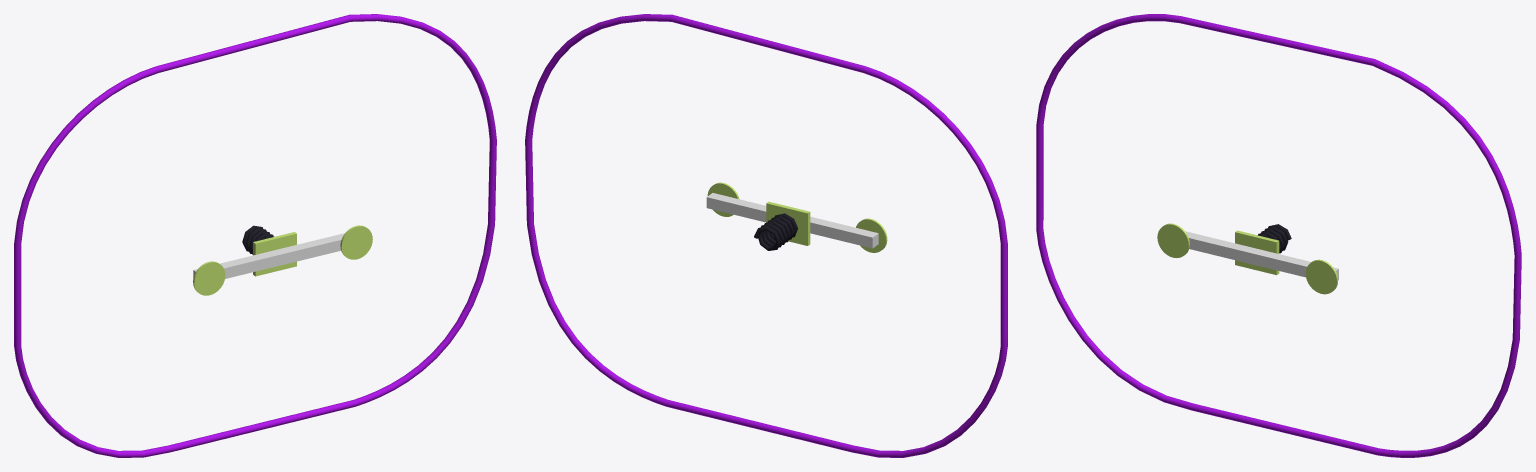
File: leber-msk-201.glb
3 views of the same model, side by side, from view 1: azimuth 30°, elevation 25°; view 2: azimuth 150°, elevation 25°; view 3: azimuth 330°, elevation 25° (orthographic).
Visible parts, largest first — view 1: _outline.006, Cube.034, Cylinder.025, Cylinder.026, Cube.033; view 2: _outline.006, Cube.034, Spiral.001, Cube.033, Cylinder.025; view 3: _outline.006, Cube.034, Cylinder.025, Cylinder.026, Cube.033.
Part boxes in pixels (x1,y1,x2,y2): _outline.006: (14,14,496,457); Cube.034: (193,233,344,278); Cylinder.025: (193,261,225,295); Cylinder.026: (340,225,372,259); Cube.033: (253,232,296,276); _outline.006: (525,14,1007,457); Cube.034: (706,193,878,248); Spiral.001: (754,213,798,250); Cube.033: (766,201,810,245); Cylinder.025: (856,218,887,252); _outline.006: (1036,14,1521,457); Cube.034: (1185,231,1338,279); Cylinder.025: (1157,223,1189,257); Cylinder.026: (1305,259,1338,294); Cube.033: (1235,230,1279,275).
Bounding box in the file's own units: 4.63 × 3.61 × 0.5349.
